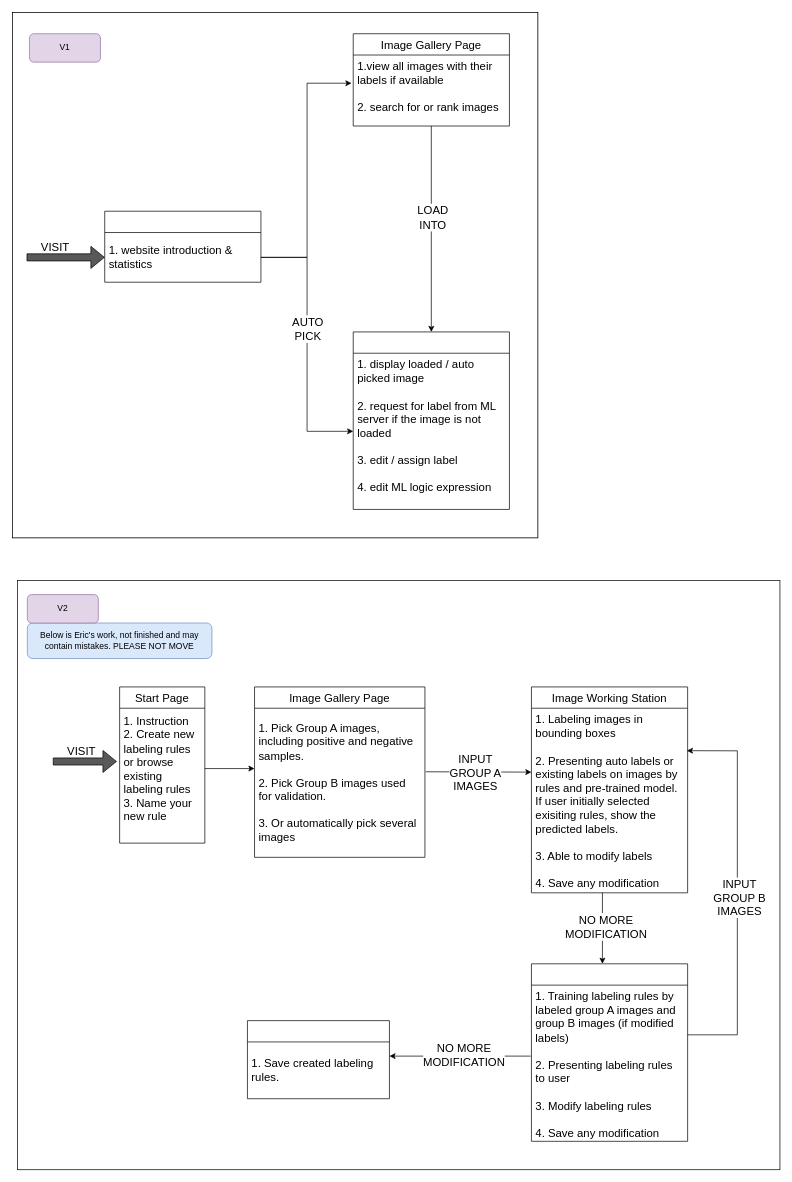
Some shapes in this 792 by 1182 pixel diagram are drawn without their labels. The shapes that lost their labels are listed below. From the top down, each one's box as (x1, y1, x2, y2) in pixels, then its label:
(104, 211, 261, 282): Dashboard Page
(353, 331, 509, 509): Work Station Page
(247, 1020, 389, 1099): End Page
(531, 963, 688, 1141): Rule Training
